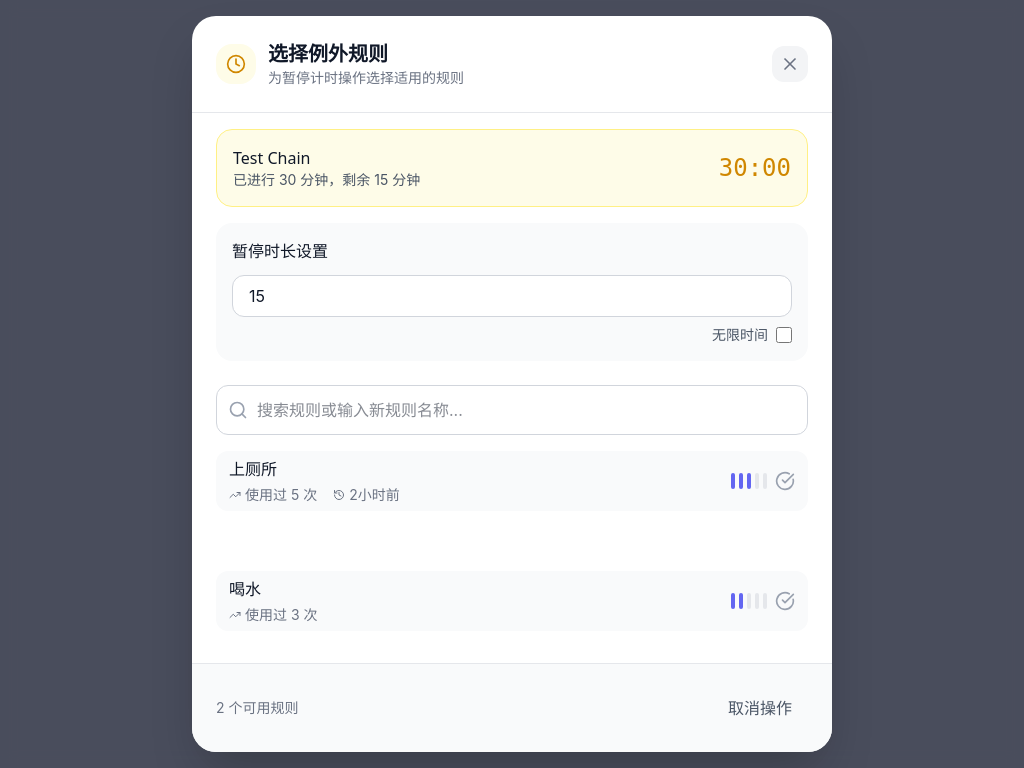
RuleSelectionDialog › error handling › should display error message
Type "新规则" into the field labelled "搜索规则" at (512, 410), box [216,385,808,435]
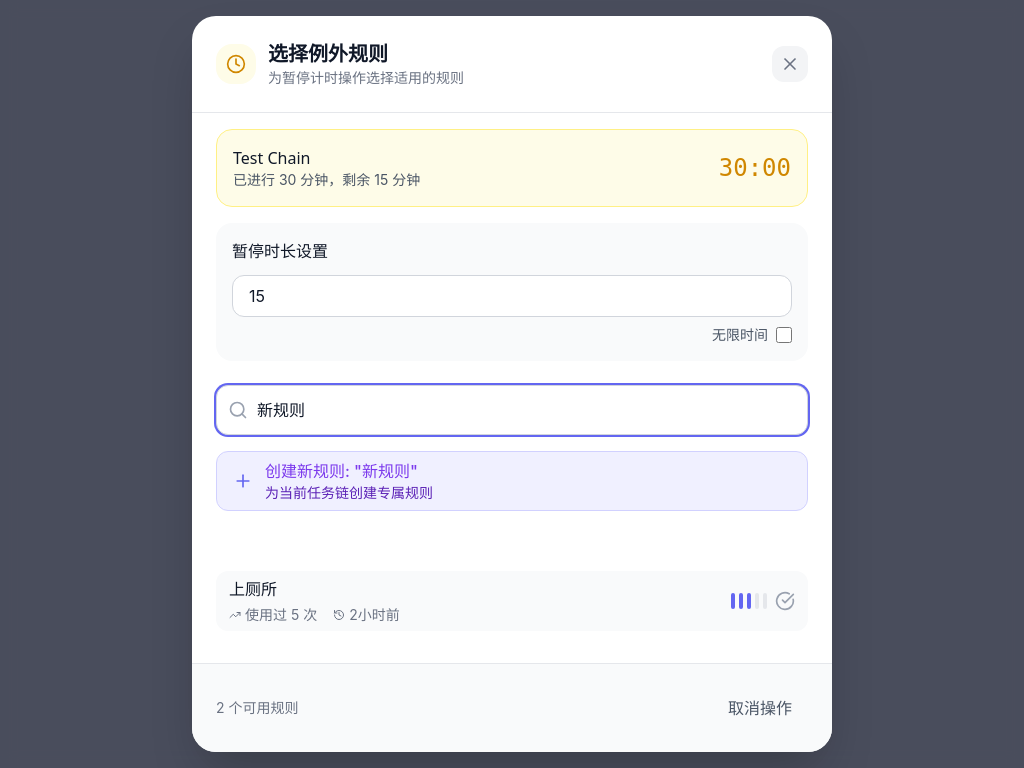
Click the text "创建新规则: \"新规则\"" at (342, 471), box [265,461,418,481]
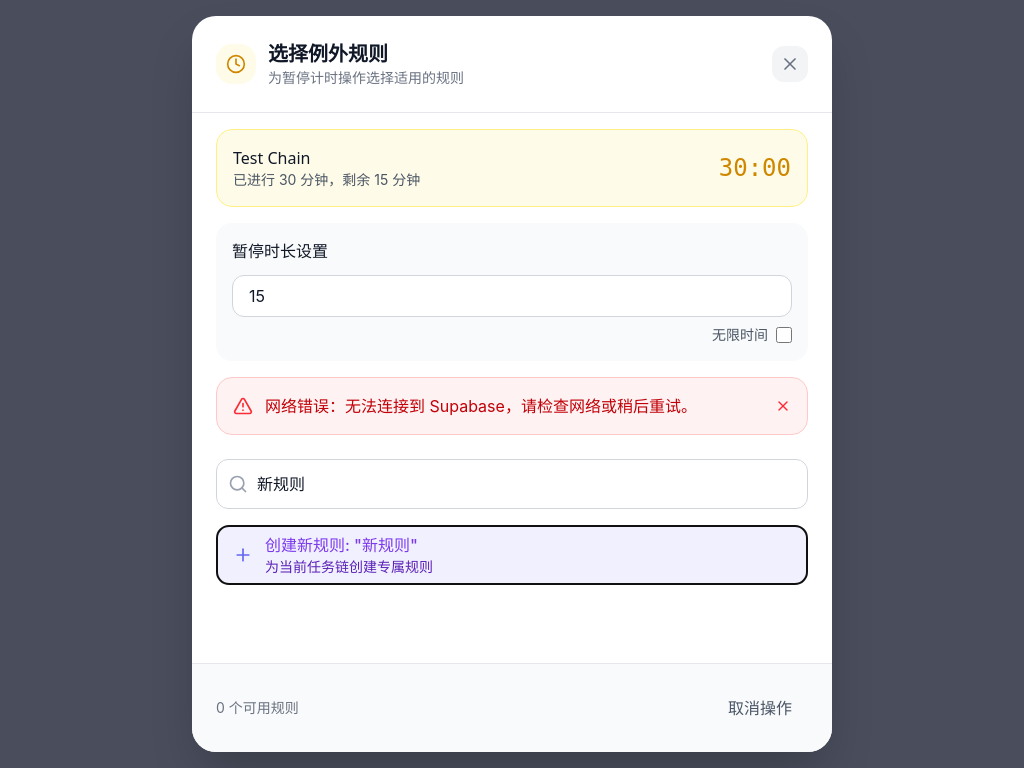
Check: the text "网络错误：无法连接到 Supabase，请检查网络或稍后重试。" is shown, box [265,394,763,418]
